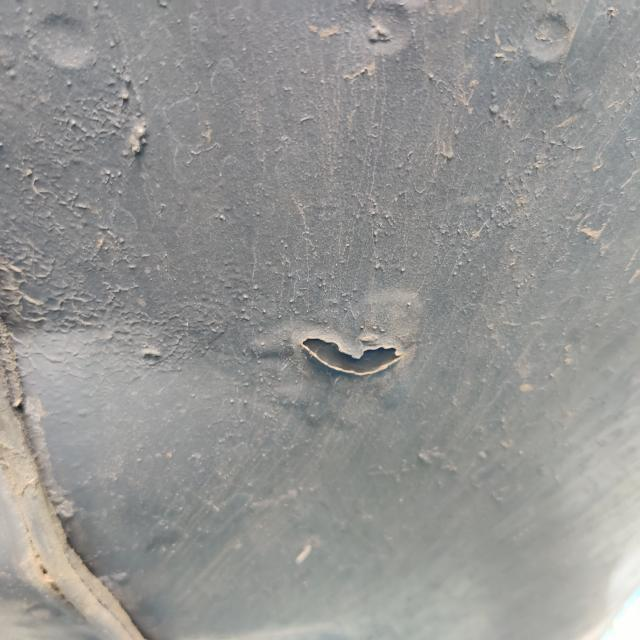paint-off: (288, 322, 420, 392)
